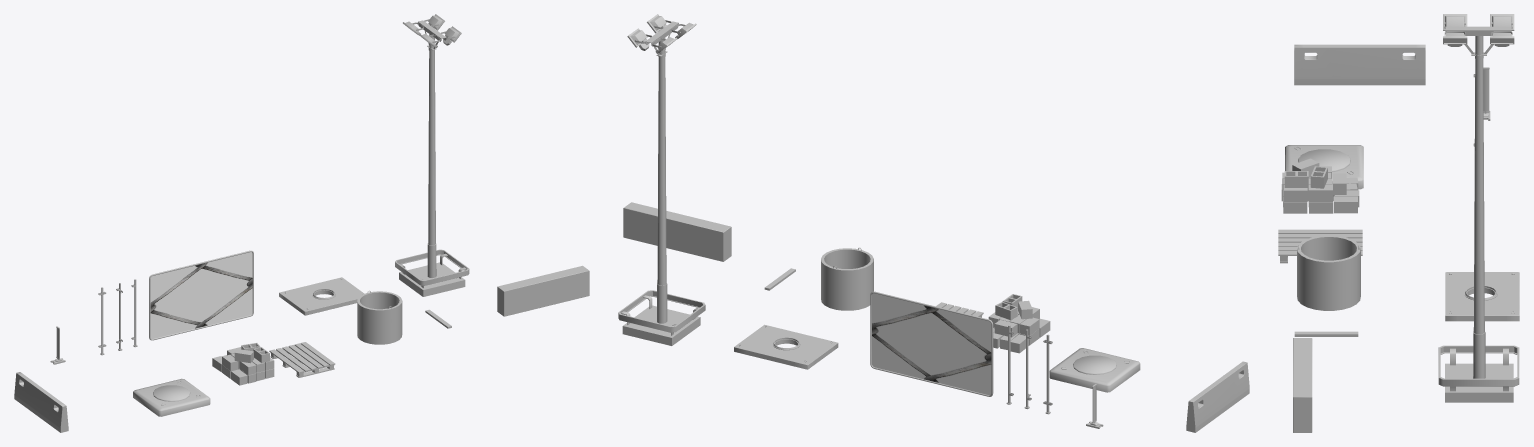
3 views of the same model, side by side, from view 1: azimuth 30°, elevation 25°; view 2: azimuth 150°, elevation 25°; view 3: azimuth 270°, elevation 25° (orthographic). The views are drawn at different scales.
Parts seen in each view (by area): view 1: Fance_A, Lamp, Blocks_M, Well, Well cover_B, Well cover_A, Blocks, Concrete Barrier, Pallet; view 2: Fance_A, Lamp, Blocks_M, Well, Well cover_B, Well cover_A, Blocks, Concrete Barrier; view 3: Lamp, Concrete Barrier, Well, Blocks, Well cover_B, Well cover_A, Blocks_M, Pallet, Board, Plastic Barrier.
Boxes of the visible parts, x1,y1,x2,y2 form: Fance_A: [149, 250, 253, 340]; Lamp: [395, 14, 469, 296]; Blocks_M: [497, 265, 589, 316]; Well: [357, 290, 402, 344]; Well cover_B: [279, 277, 364, 315]; Well cover_A: [133, 378, 210, 416]; Blocks: [212, 343, 274, 385]; Concrete Barrier: [14, 372, 68, 432]; Pallet: [269, 342, 335, 377]; Fance_A: [870, 291, 993, 396]; Lamp: [618, 14, 705, 345]; Blocks_M: [623, 202, 731, 261]; Well: [821, 247, 873, 310]; Well cover_B: [734, 324, 838, 369]; Well cover_A: [1049, 348, 1140, 392]; Blocks: [988, 294, 1050, 353]; Concrete Barrier: [1186, 361, 1249, 432]; Lamp: [1438, 14, 1519, 402]; Concrete Barrier: [1294, 44, 1425, 85]; Well: [1297, 235, 1360, 310]; Blocks: [1281, 158, 1359, 213]; Well cover_B: [1445, 272, 1519, 321]; Well cover_A: [1285, 145, 1363, 189]; Blocks_M: [1293, 338, 1312, 432]; Pallet: [1278, 229, 1362, 263]; Board: [1294, 331, 1358, 336]; Plastic Barrier: [1483, 67, 1490, 120].
Size of the model in its own units: 439 by 204 by 123.
